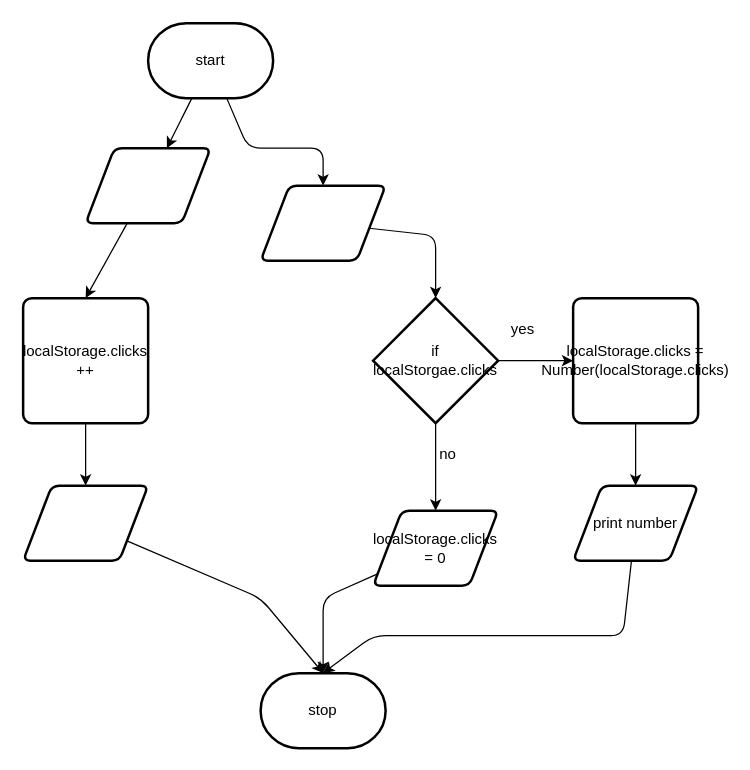
Some shapes in this 750 by 770 pixel diagram are drawn without their labels. The box of each missing label's shape, as (x1, y1, x2, y2) in pixels:
cookie clicked: (84, 146, 211, 224)
on load: (259, 184, 386, 261)
print /update number: (21, 484, 149, 561)
